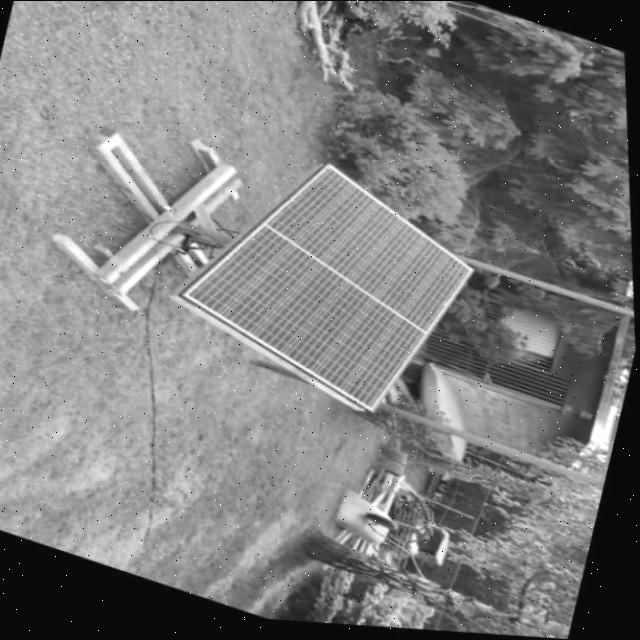Normal Solar Panel: (164, 130, 496, 436)
